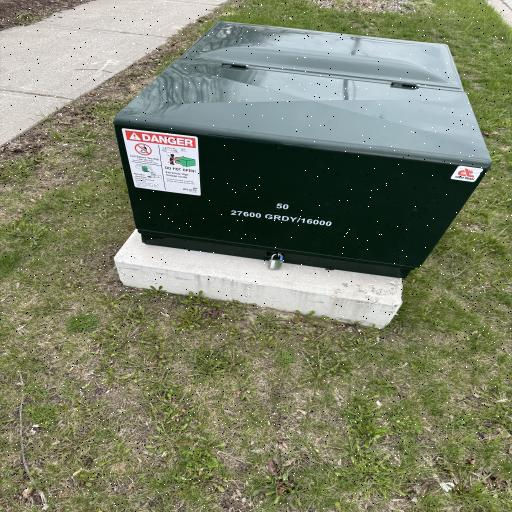Electrical Box: (107, 20, 494, 282)
